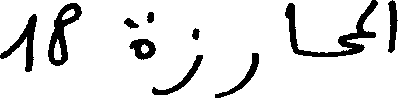1: (0, 11, 35, 72)
8: (47, 1, 80, 66)
ا: (284, 0, 298, 54), (385, 0, 395, 53)
ة: (127, 9, 157, 59)
ح: (321, 37, 365, 60)
ر: (219, 50, 259, 96)
ز: (168, 25, 203, 94)
ل: (353, 0, 376, 37)
م: (361, 29, 377, 43)
